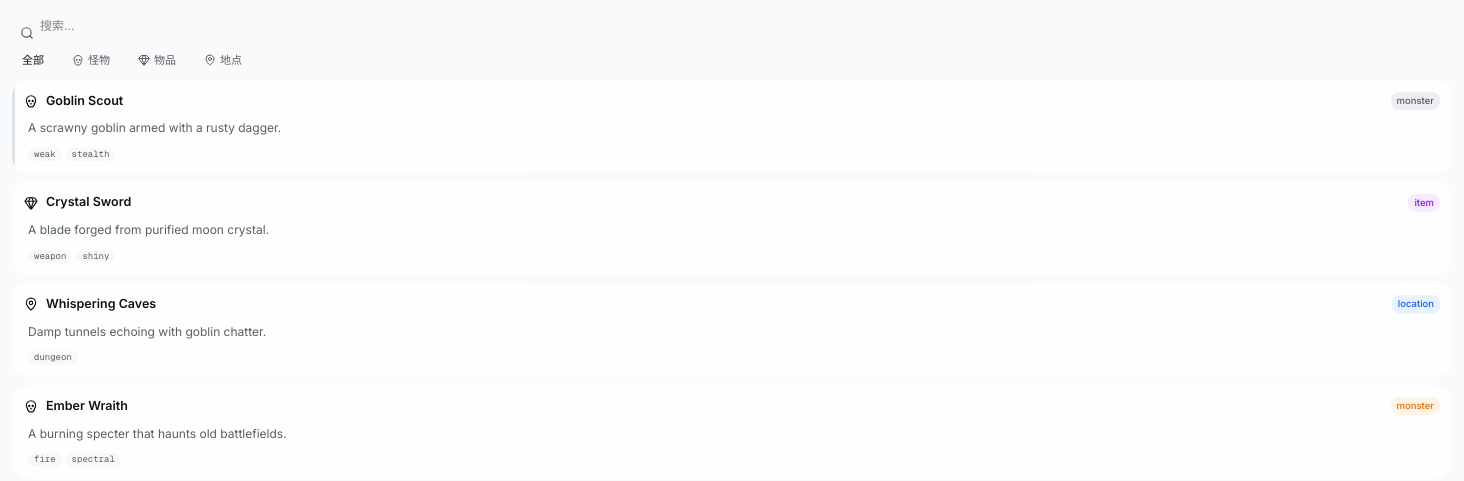
Scenario: FilterContainer component › filters items by tab click
What coordinates should you click on to do the following:
click the tab "怪物"
I would click on:
 (91, 60)
Its box is left=62, top=48, right=120, bottom=72.
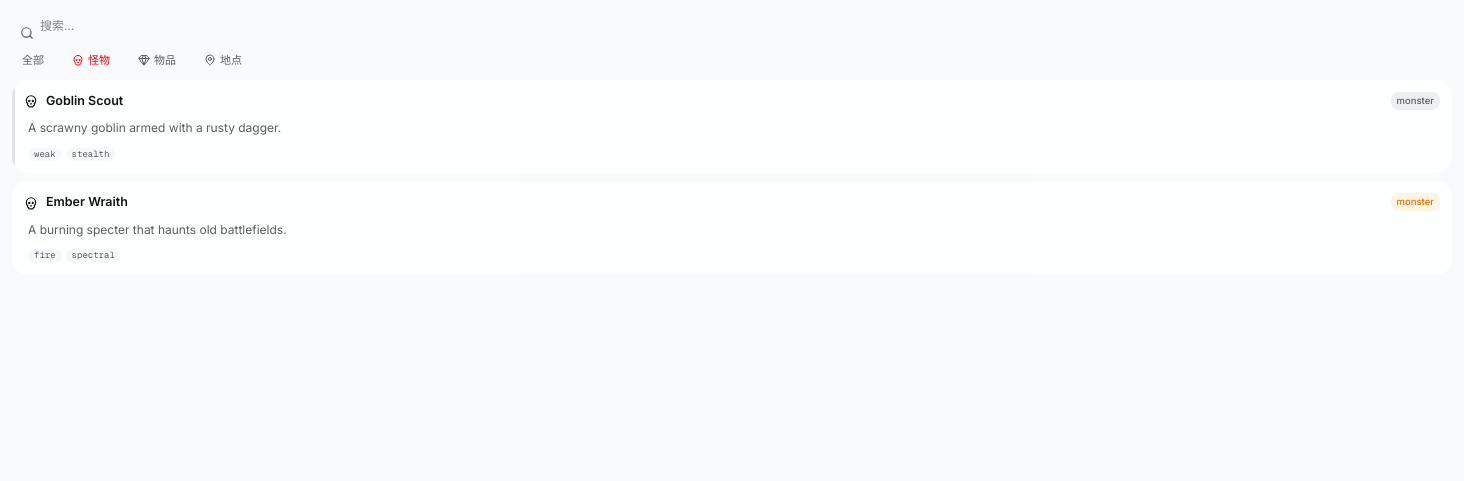
Expected: the text "Goblin Scout" is shown, left=46, top=92, right=123, bottom=108
Now the text "Crystal Sword" is gone
Now the text "Whispering Caves" is gone
